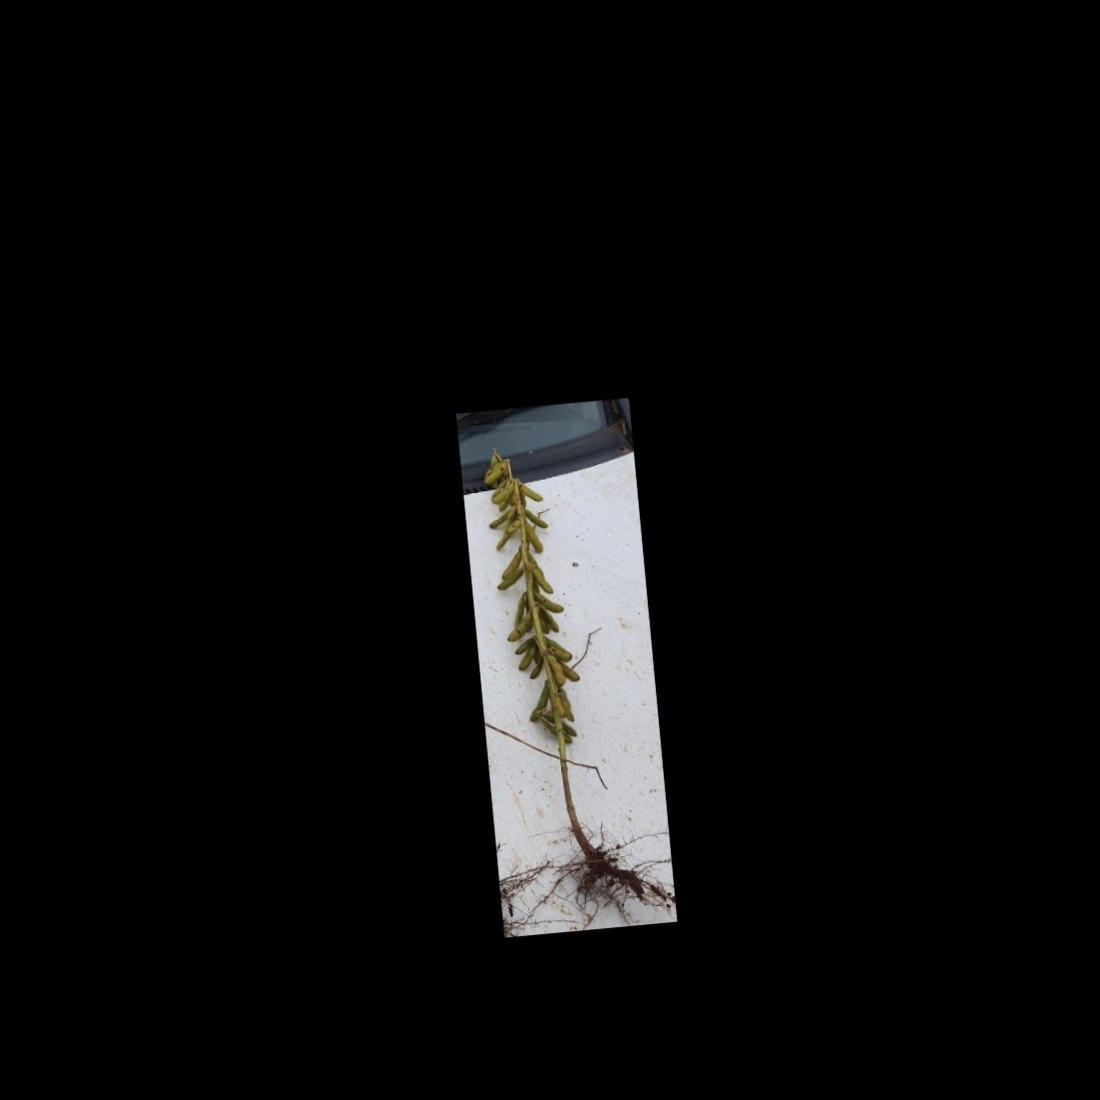pod: (524, 679, 550, 723), (522, 520, 545, 558), (544, 652, 564, 686), (519, 480, 547, 504), (531, 568, 554, 596), (527, 656, 546, 680)
soy: (463, 432, 649, 911)
